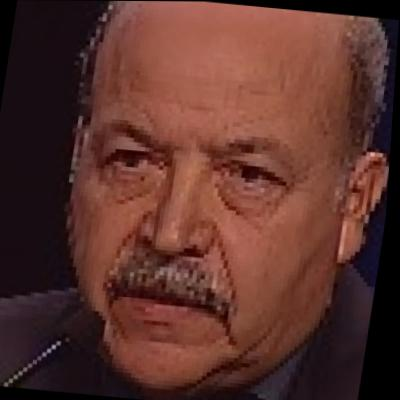angry: (43, 0, 384, 391)
